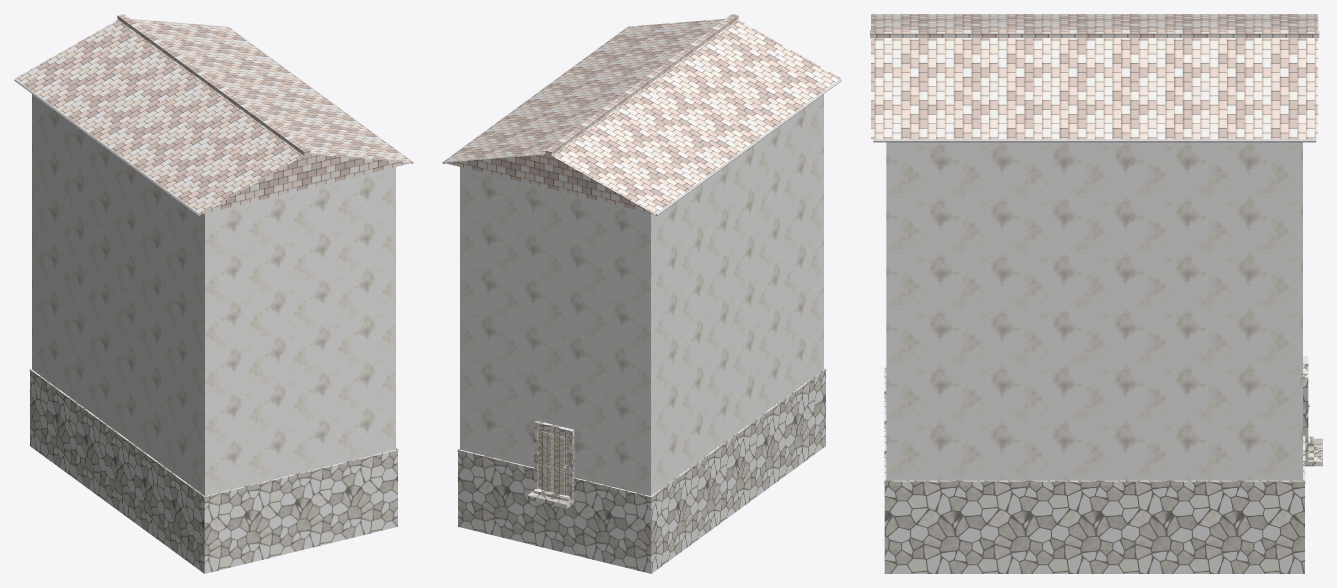
3 views of the same model, side by side, from view 1: azimuth 30°, elevation 25°; view 2: azimuth 150°, elevation 25°; view 3: azimuth 270°, elevation 25° (orthographic). The views are drawn at different scales.
Parts seen in each view (by area): view 1: b1088806807; view 2: b1088806807; view 3: b1088806807.
Part boxes in pixels (x1,y1,x2,y2): b1088806807: [14, 14, 413, 573]; b1088806807: [442, 14, 841, 573]; b1088806807: [870, 14, 1322, 573].
Bounding box in the file's own units: 6.8 × 12.16 × 10.28.
11 materials, 11 textured.
